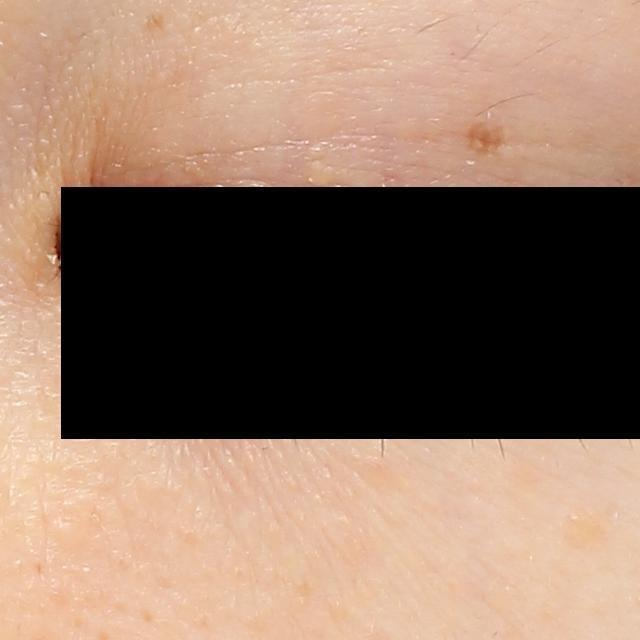melasma: (467, 119, 511, 158)
